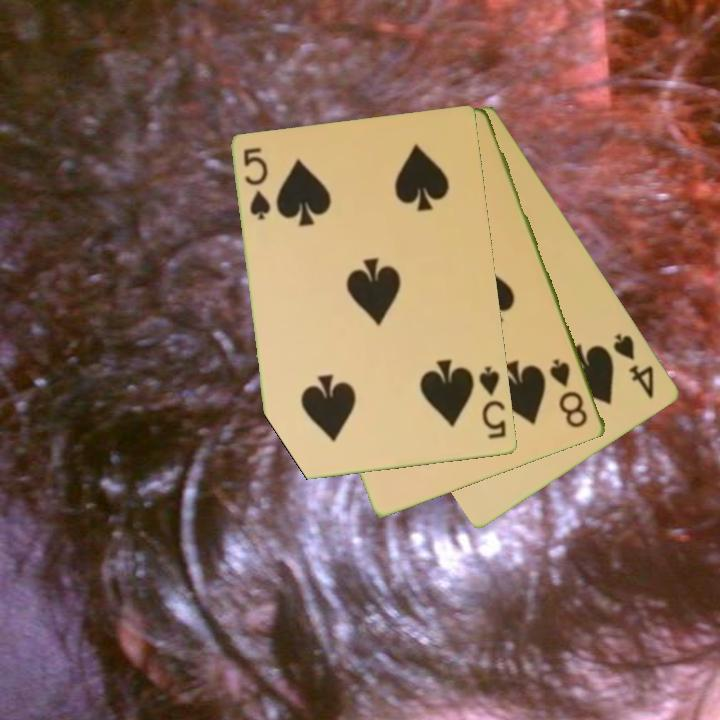4s: (610, 330, 658, 402)
5s: (240, 144, 274, 224), (476, 363, 510, 442)
8s: (546, 355, 591, 431)
